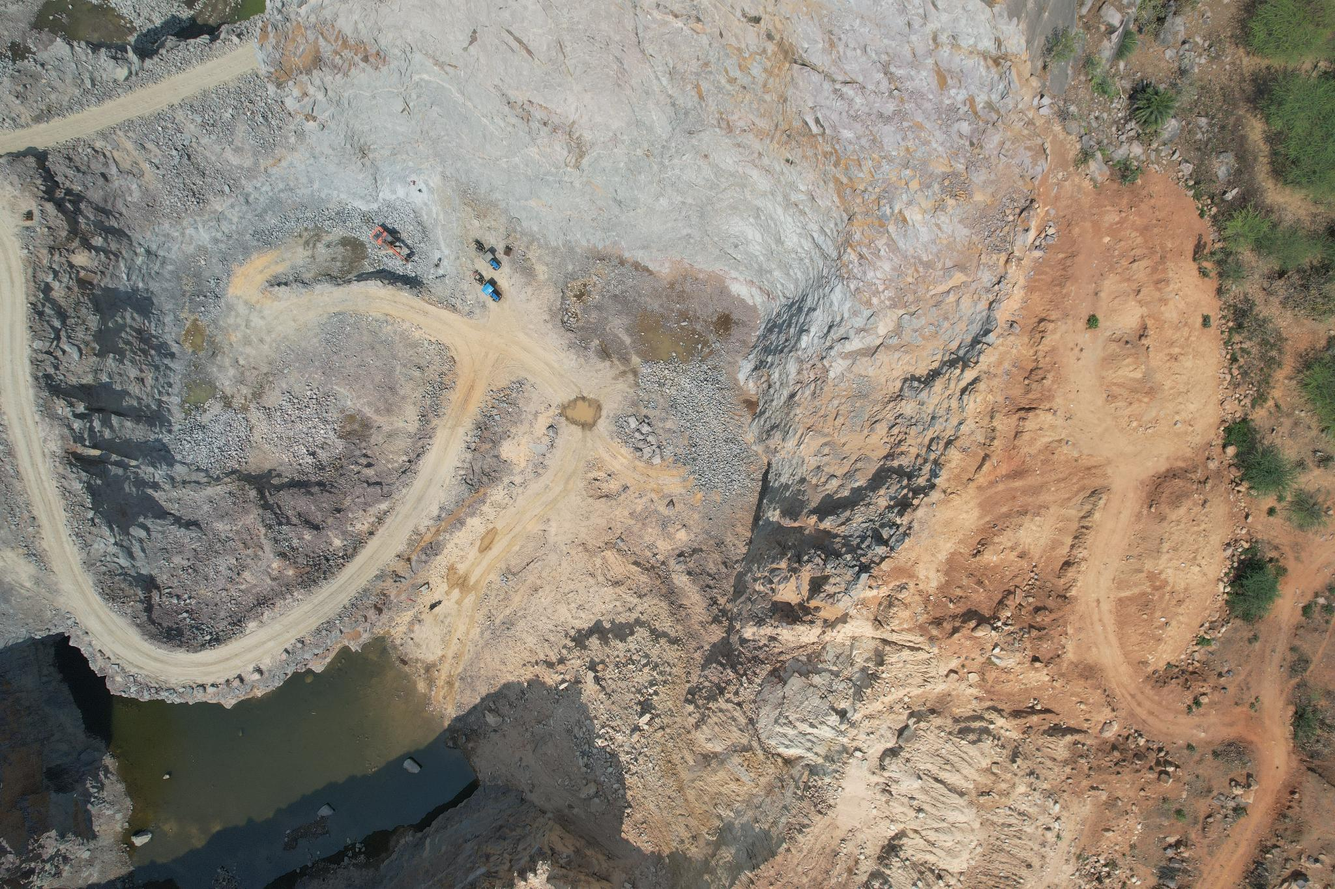benches: (0, 203, 482, 686), (274, 284, 688, 708), (0, 43, 258, 153), (363, 222, 414, 268)
